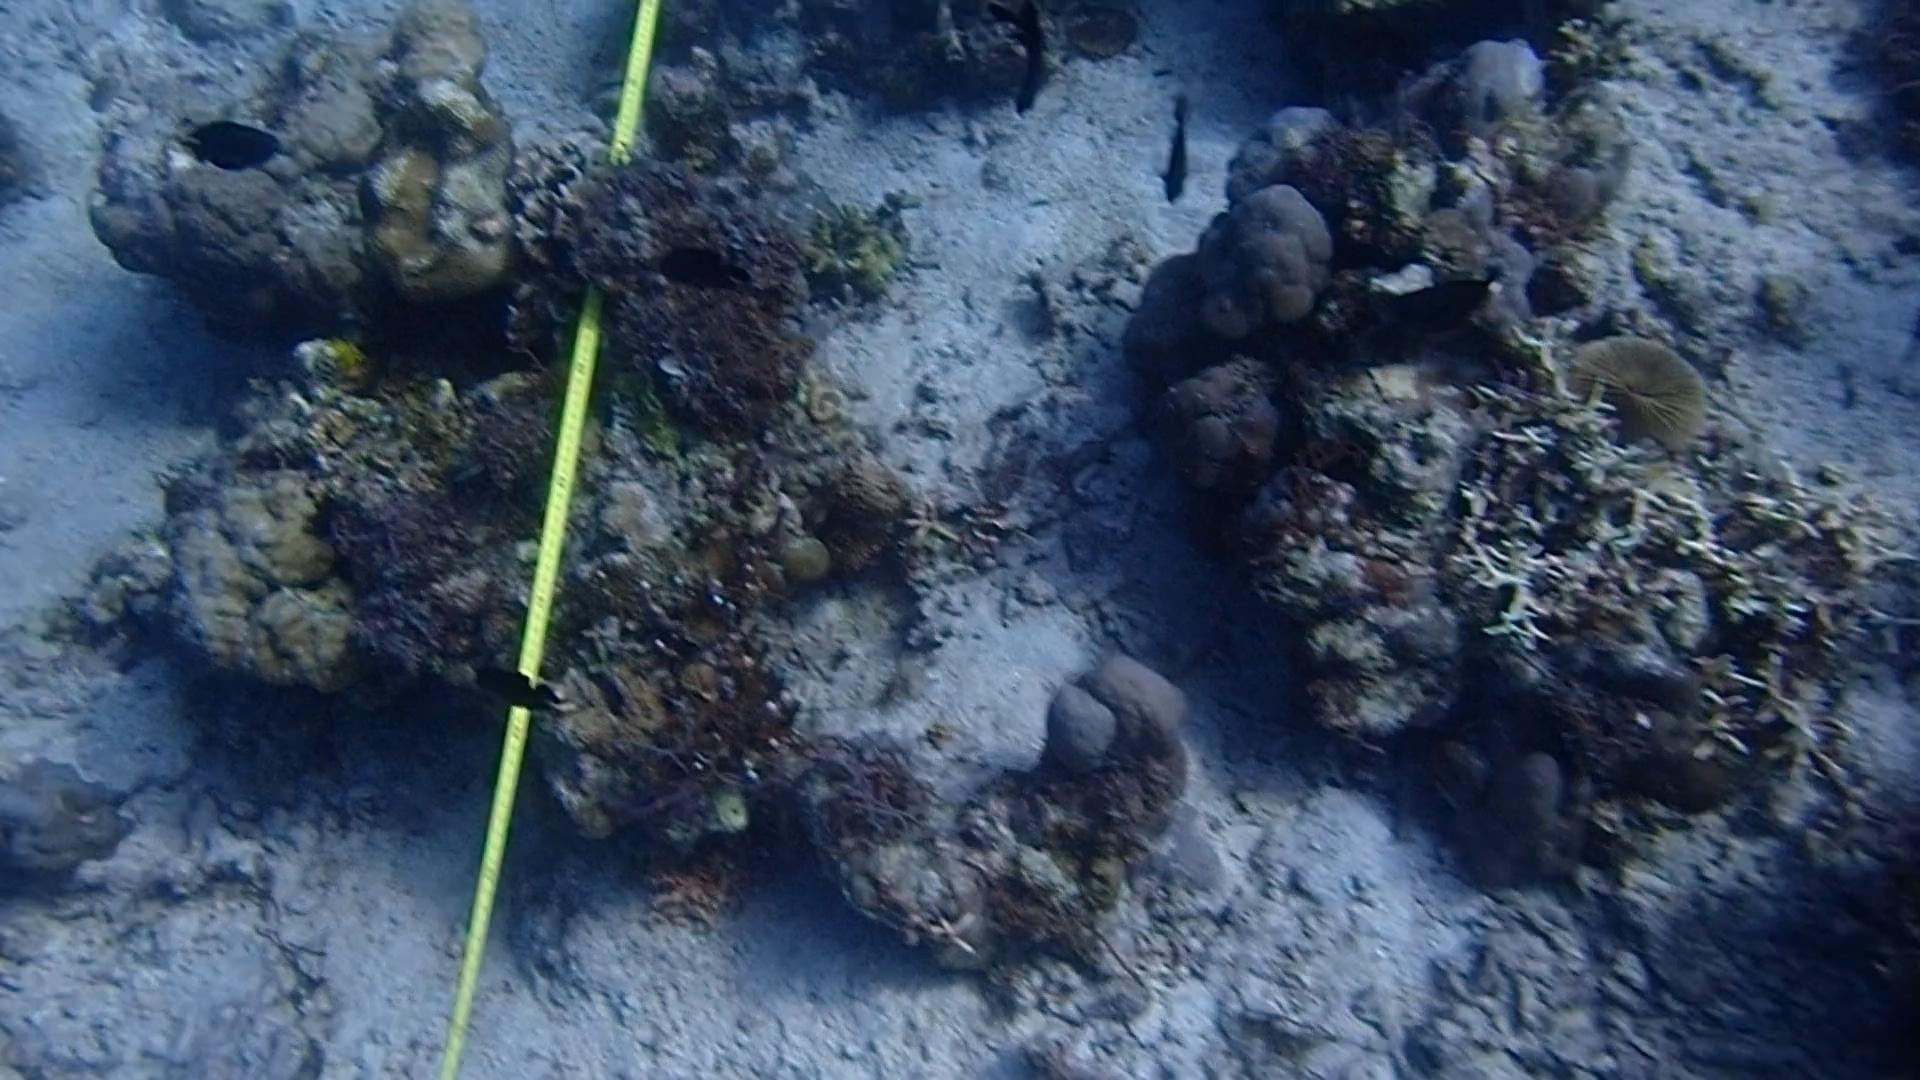Dark Fish: (1354, 268, 1490, 372), (982, 0, 1059, 124), (636, 237, 760, 307), (174, 120, 294, 181), (1141, 95, 1207, 200), (472, 655, 564, 728)
